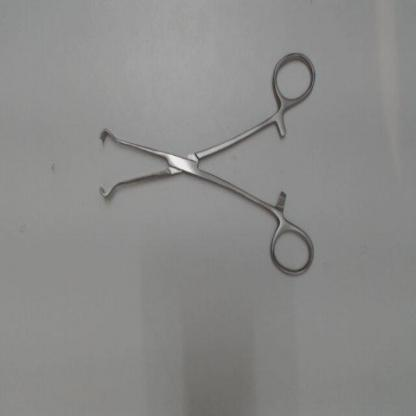Babcock Tissue Forceps: (93, 46, 320, 287)
